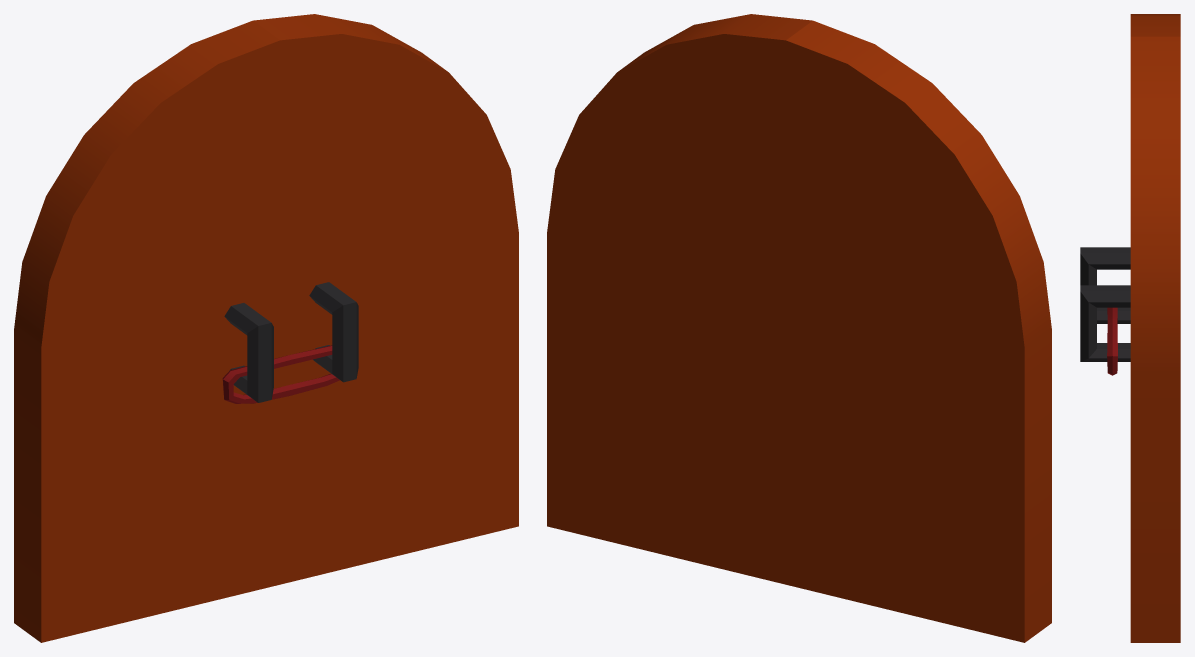
File: door_typeA_motion_close 1.fbx
3 renders of one model, left to right at view 1: azimuth 30°, elevation 25°; view 2: azimuth 150°, elevation 25°; view 3: azimuth 270°, elevation 25°, orthographic. The views are drawn at different scales.
Visible parts, largest first — view 1: door_r, door_l; view 2: door_r, door_l; view 3: door_l, door_r.
Part boxes in pixels (x1,y1,x2,y2): door_r: (14, 20, 292, 642); door_l: (253, 14, 518, 584); door_r: (786, 20, 1051, 642); door_l: (547, 14, 812, 584); door_l: (1080, 36, 1180, 642); door_r: (1080, 14, 1180, 323).
Bounding box in the file's own units: 180 × 196 × 35.63.
